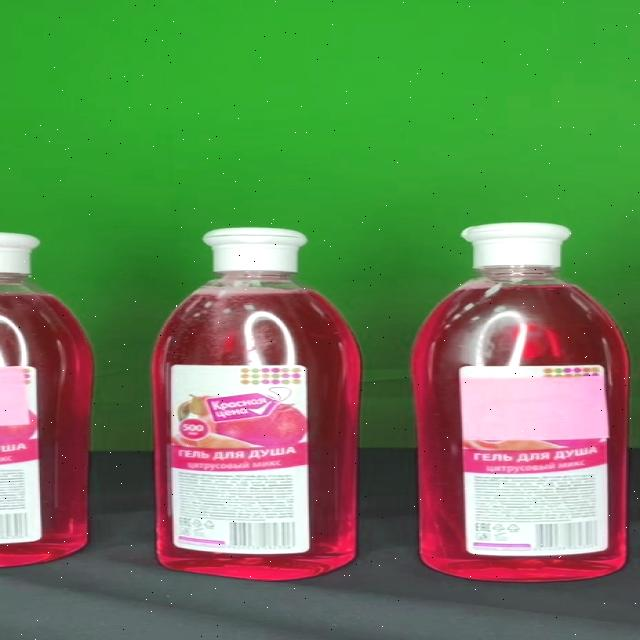Bottle: (412, 223, 628, 582), (151, 227, 362, 581)
Cap: (461, 224, 570, 268), (200, 227, 307, 271)
